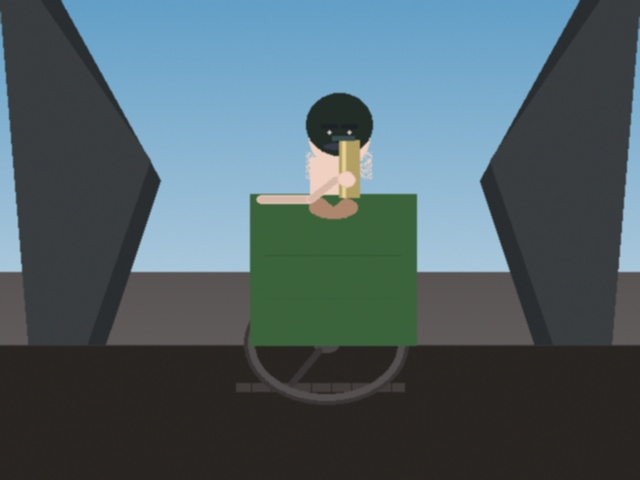drinking: (323, 126, 369, 207)
